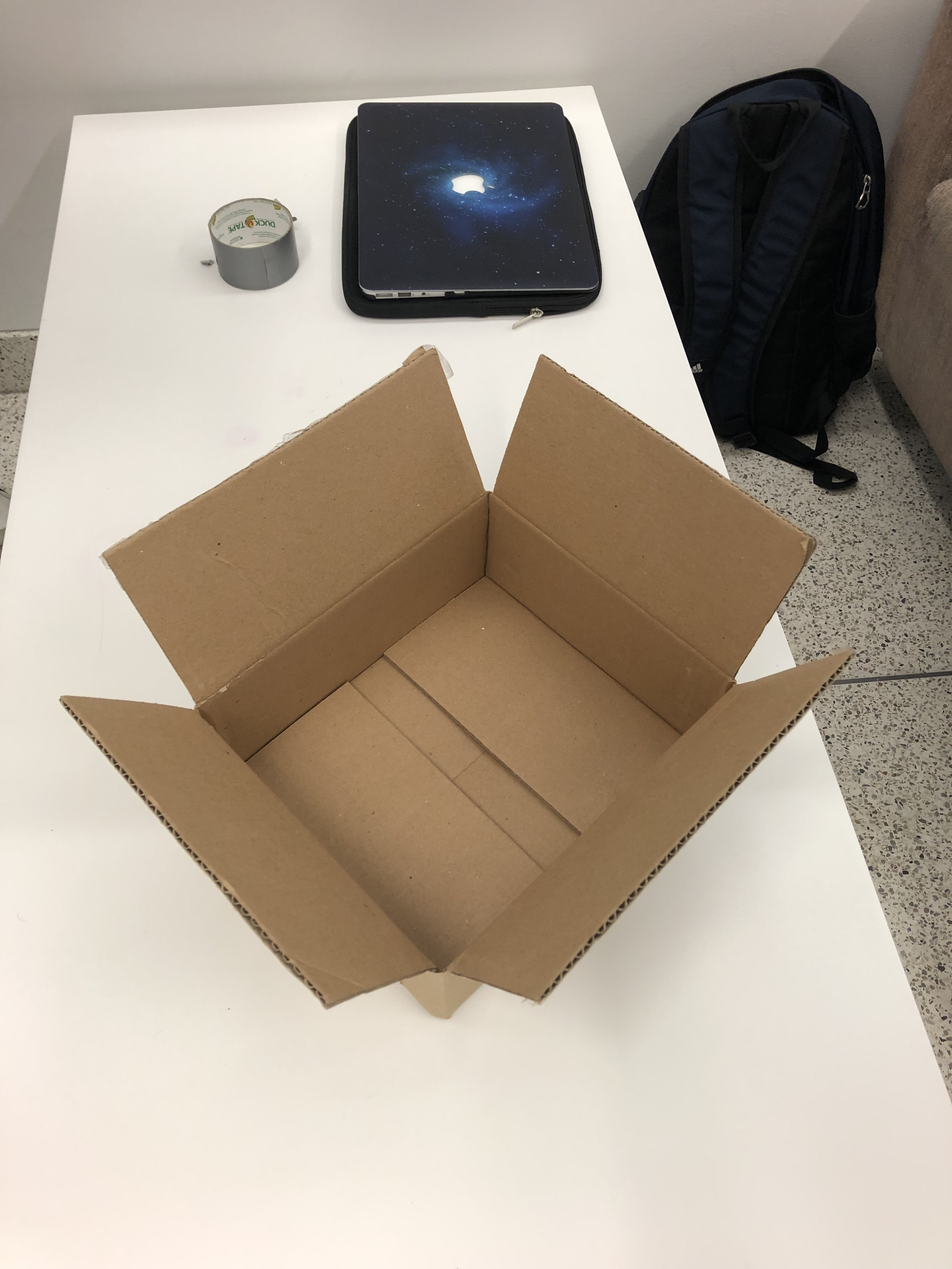box: (54, 350, 852, 1021)
crushed: (54, 351, 854, 1009)
